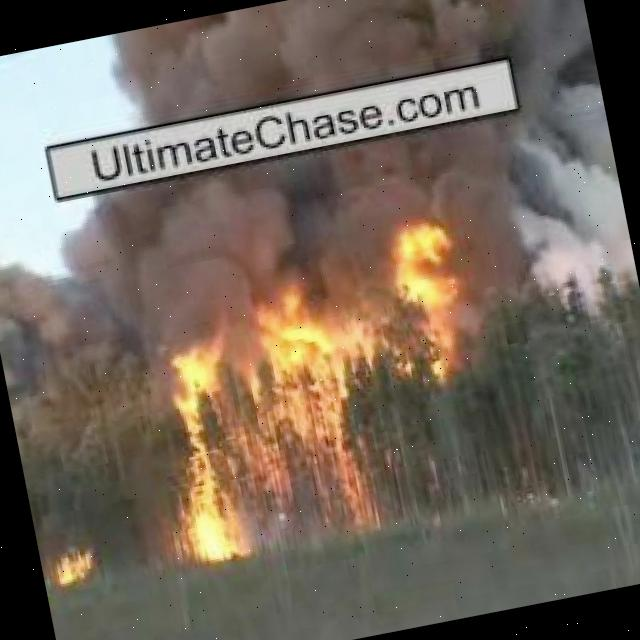fire: (148, 298, 386, 568), (378, 202, 486, 386), (52, 534, 102, 586)
